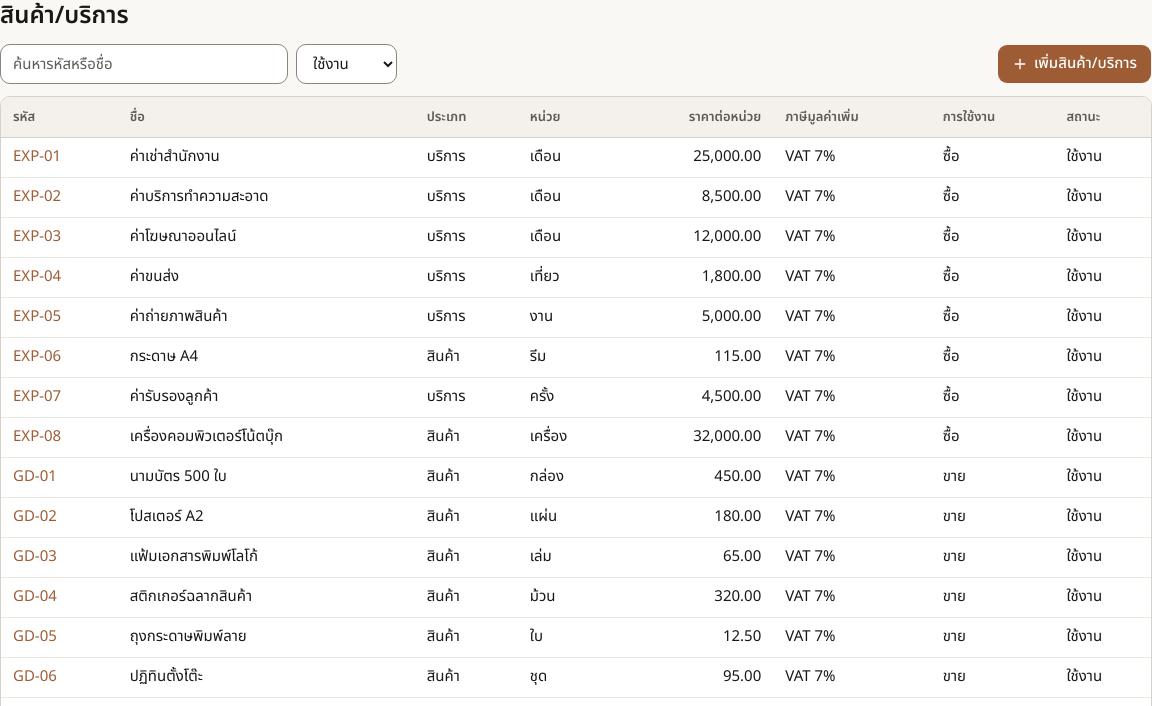
Scenario: item list and form (a record kind with no detail page) › VAT company create: the VAT field defaults to 7 % and the server error lands on the field
Click the button "เพิ่มสินค้า/บริการ" at (1074, 64), box [997,44,1151,84]
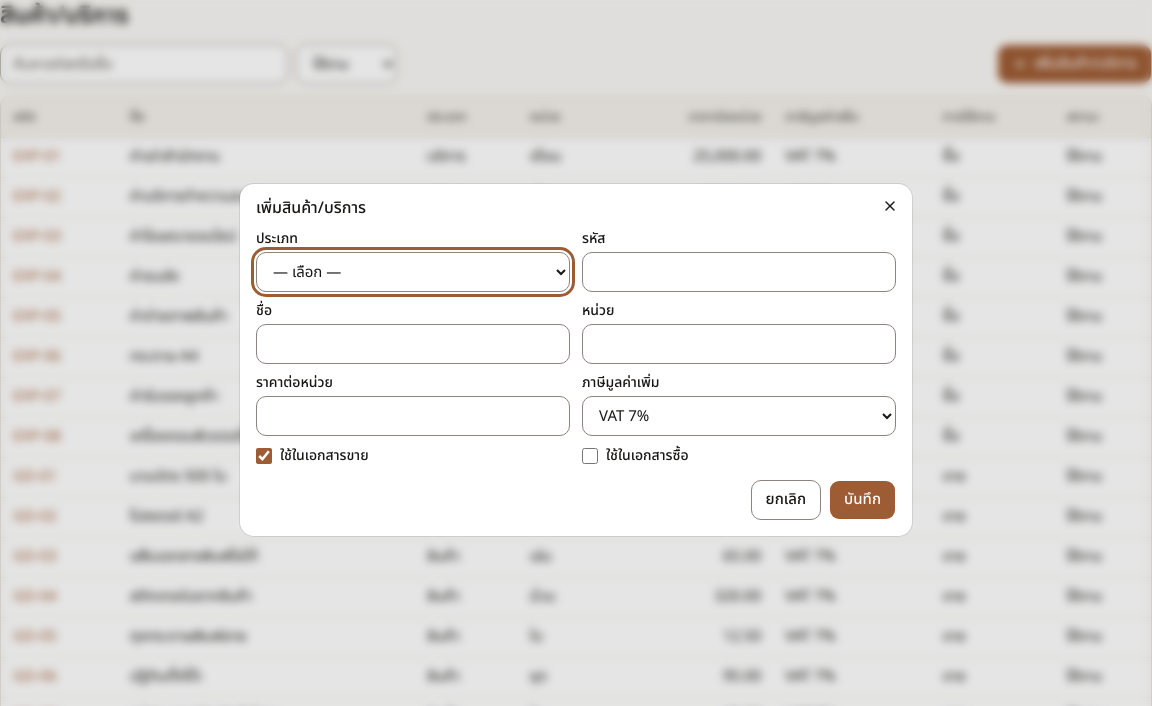
expect the dropdown labelled "ภาษีมูลค่าเพิ่ม" shows "VAT 7%": met, box [582,396,896,436]
Select "บริการ" in the dropdown labelled "ประเภท" at (413, 272), box [256,252,570,292]
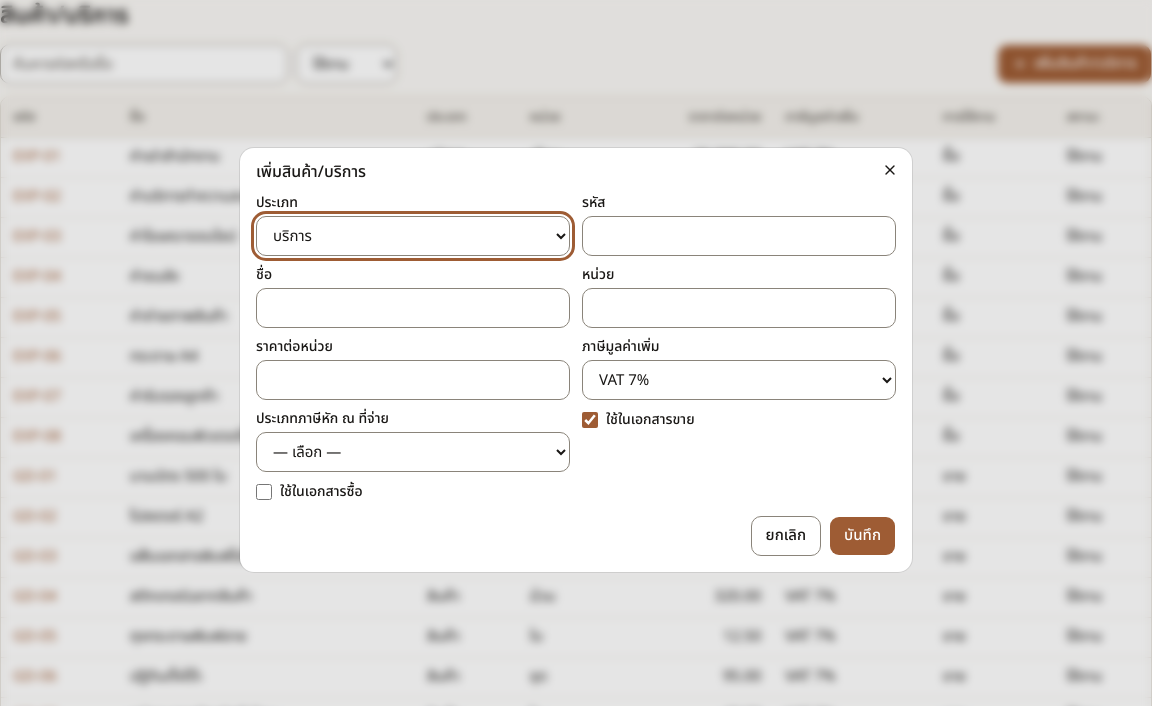
Type "SV-01" into the field labelled "รหัส" at (739, 236), box [582,216,896,256]
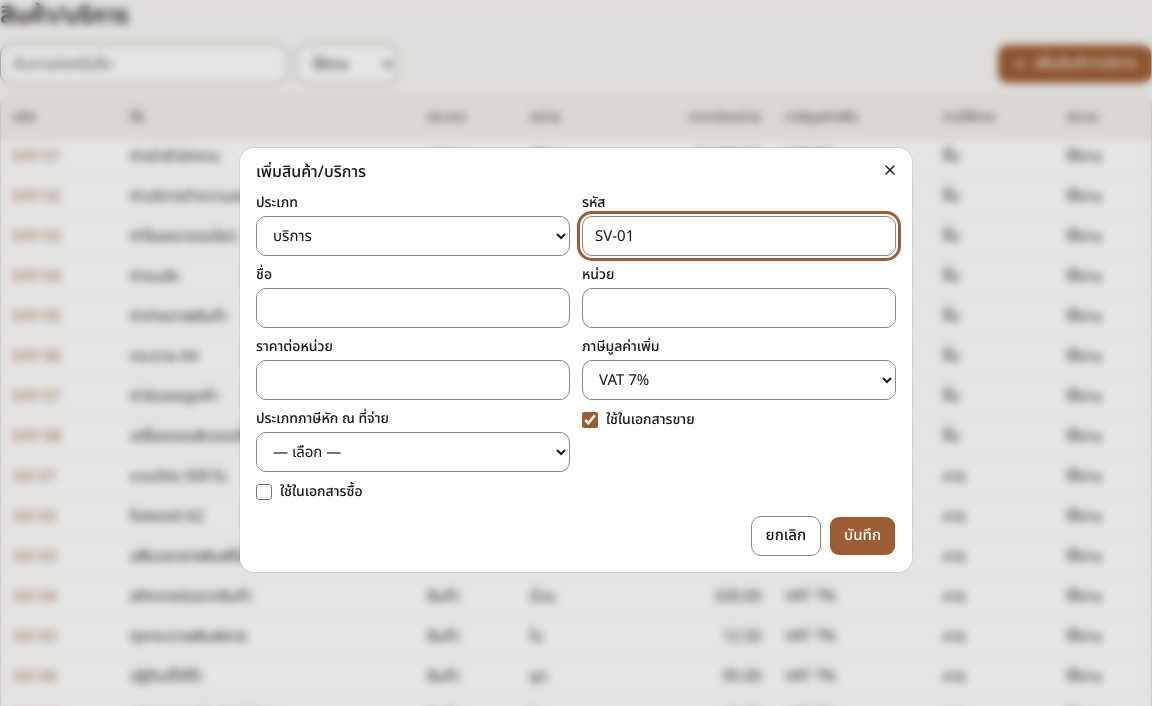
Type "บริการทดสอบ" into the field labelled "ชื่อ" at (413, 308), box [256,288,570,328]
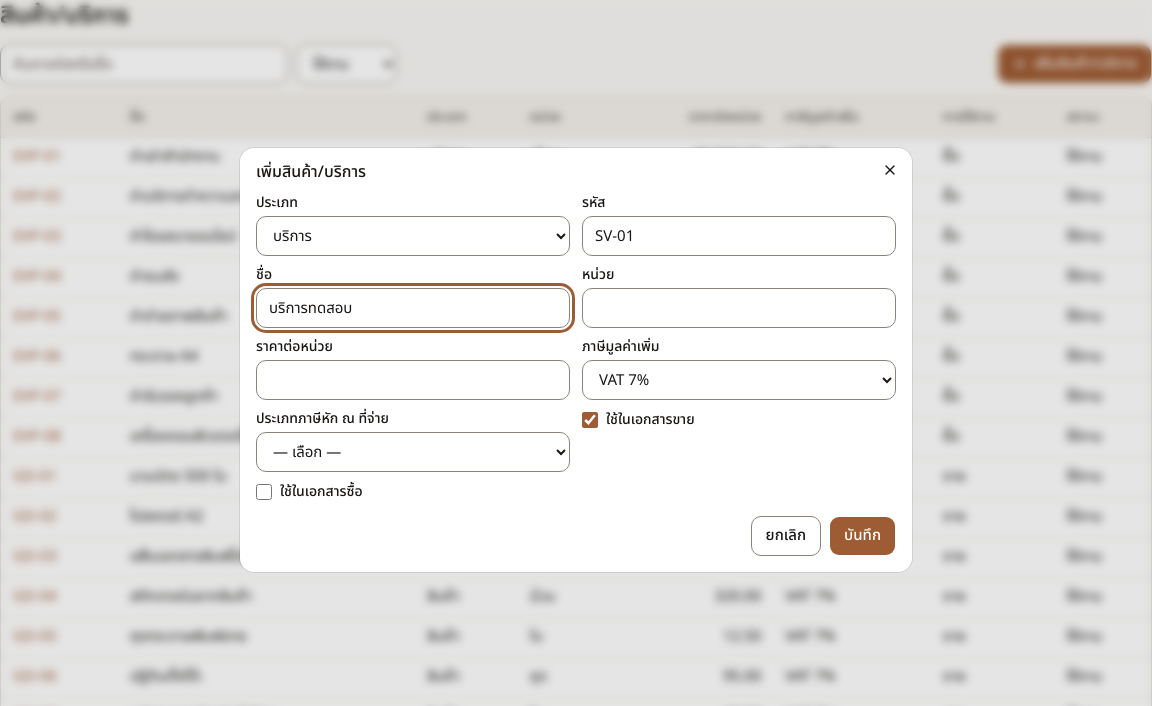
Type "งาน" into the field labelled "หน่วย" at (739, 308), box [582,288,896,328]
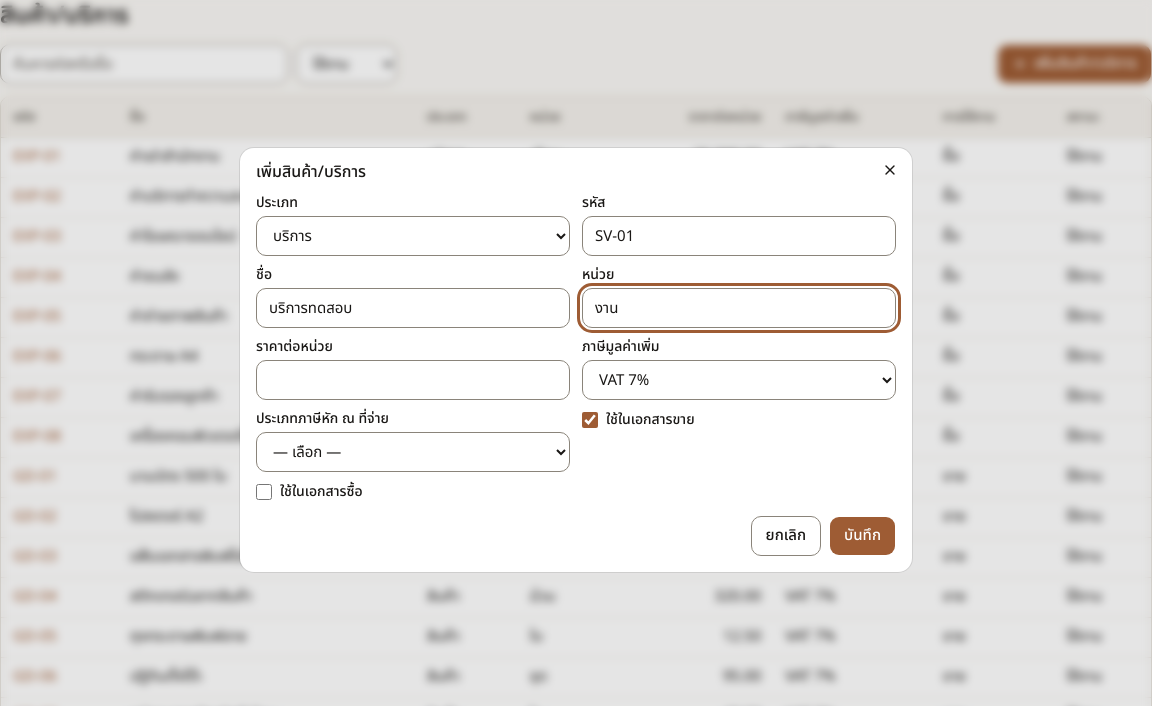
Click the button "บันทึก" at (863, 536), box [829,516,896,556]
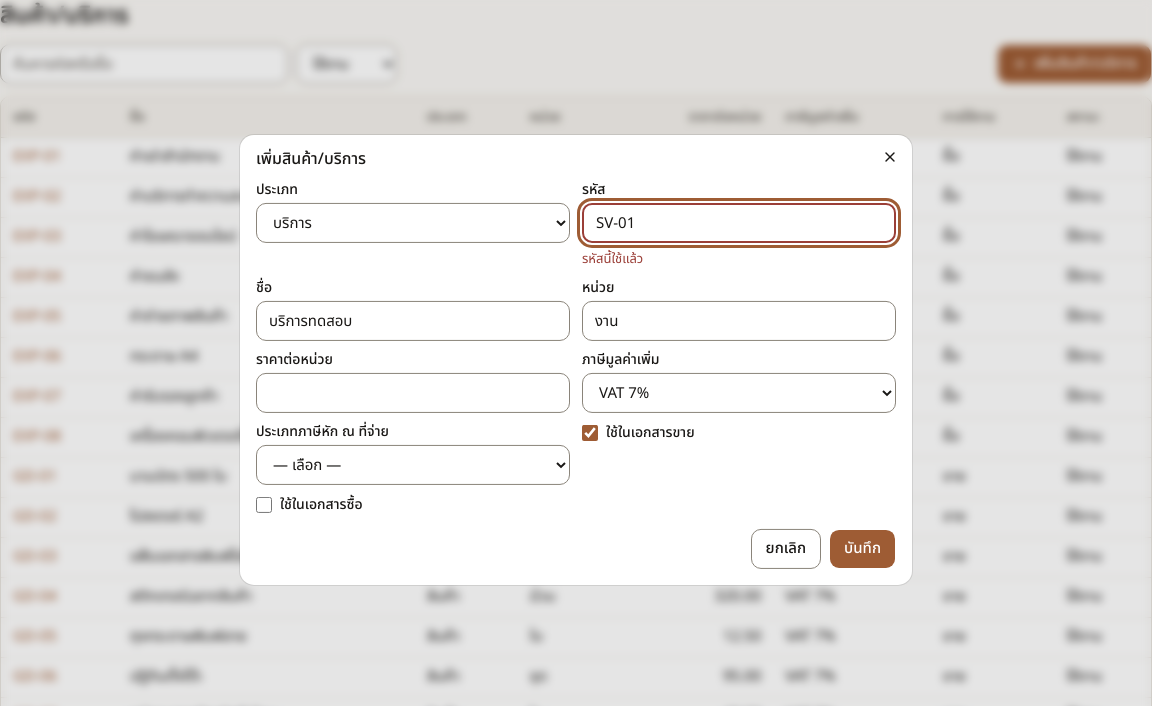
expect the text "รหัสนี้ใช้แล้ว" is shown: met, box [582,249,643,269]
